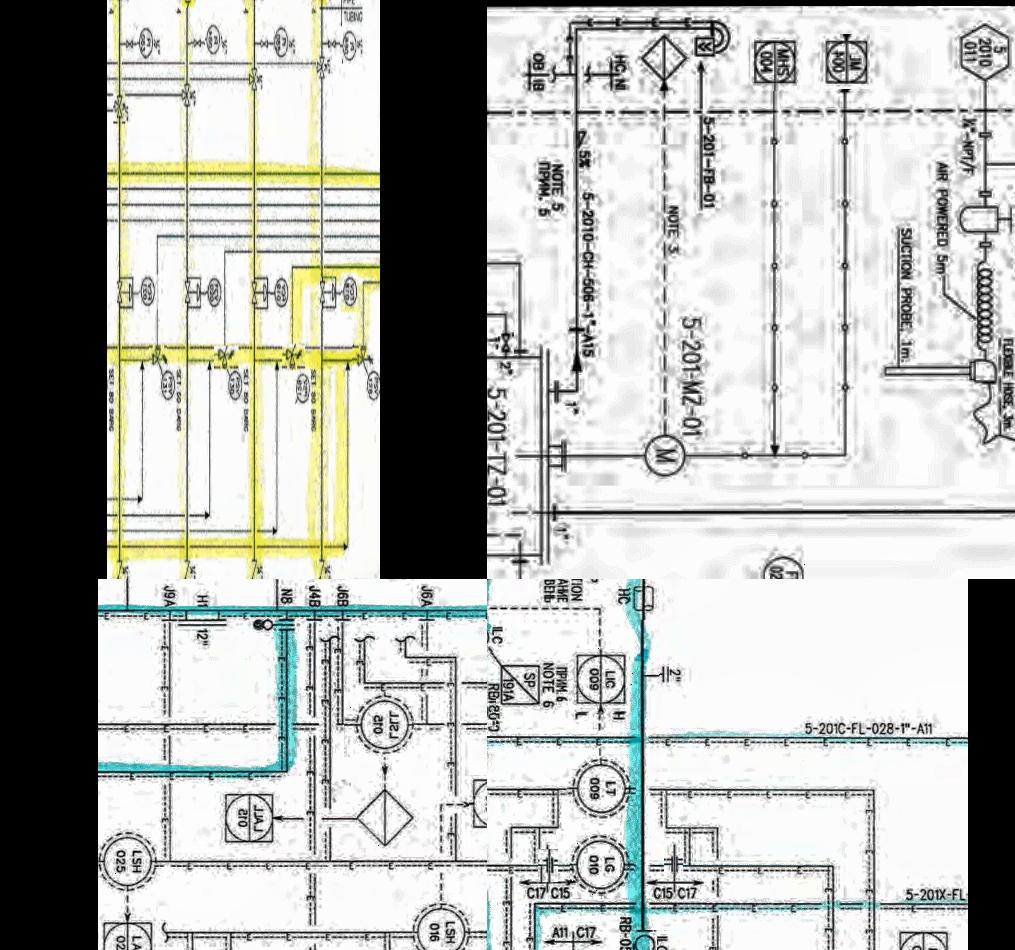3 WAY BALL VALVE: (245, 62, 259, 95), (113, 93, 125, 124), (180, 79, 192, 109), (315, 50, 327, 79)
ANGLE RELIEF VALVE: (282, 343, 305, 371), (214, 345, 238, 369), (352, 344, 378, 365), (148, 345, 166, 372)
DCS ACCESSIBLE: (569, 649, 632, 714), (218, 788, 281, 850), (744, 35, 799, 91), (817, 35, 868, 91), (98, 917, 159, 950), (468, 771, 487, 836)
DIAPHRAGM ACTUATED VALVE: (177, 279, 201, 310), (315, 276, 336, 309), (244, 279, 269, 306), (113, 279, 133, 310)
DUPLEX RECEPTACLE: (627, 580, 656, 621)
END FLANGED: (535, 850, 556, 882), (663, 854, 682, 876), (657, 663, 667, 689)
FIELD INSTRUMENT: (343, 692, 413, 757), (565, 757, 634, 822), (568, 836, 632, 896), (98, 833, 159, 894), (409, 906, 471, 950), (642, 431, 686, 481), (753, 551, 806, 579), (224, 366, 245, 403), (340, 273, 358, 312), (138, 275, 158, 310), (273, 273, 291, 311), (204, 23, 222, 60), (205, 275, 223, 310), (339, 25, 356, 62), (364, 366, 380, 403), (160, 365, 175, 402), (294, 369, 310, 403), (136, 27, 154, 57), (273, 25, 288, 58), (632, 930, 655, 950), (487, 698, 495, 729)
GATE VALVE: (496, 330, 512, 356), (258, 29, 271, 52), (190, 33, 203, 55), (123, 34, 134, 53), (327, 33, 338, 51)
HARDWIRED INTERLOCK PRIMARY.: (356, 788, 414, 852), (637, 34, 689, 88)
NO ACCESS INDICATOR: (956, 22, 1011, 84)
PLUG VALVE: (180, 0, 194, 7), (249, 0, 259, 9)
SPECIAL PIPING ITEM: (496, 659, 544, 708)
SPECTACLE BLIND OPEN: (251, 616, 301, 637)
